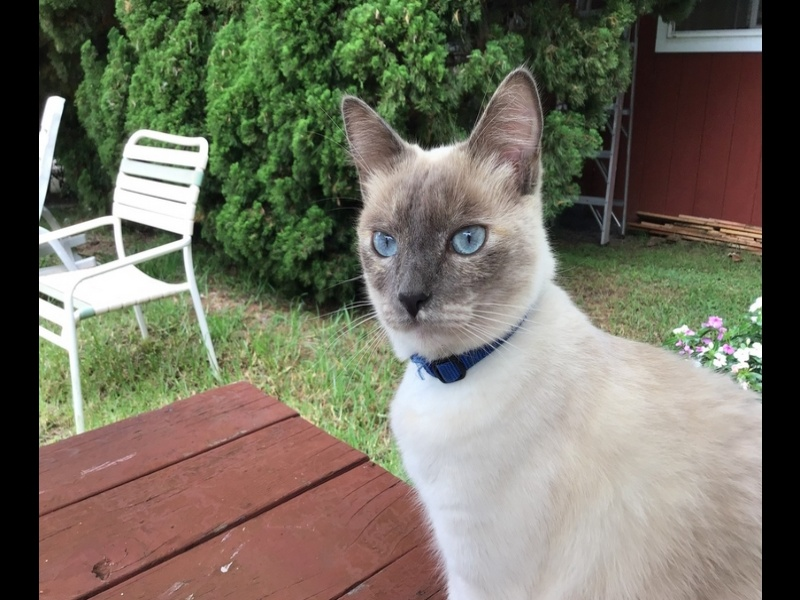cat: (334, 66, 754, 598)
